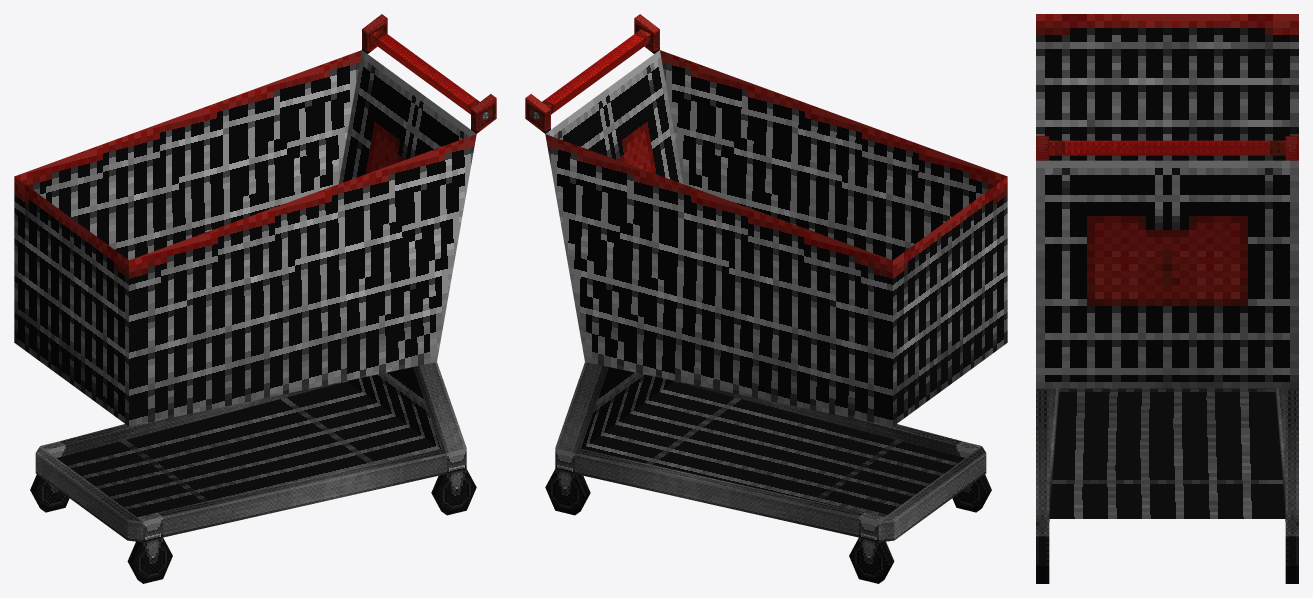
Rendered from cart.glb.
3 renders of one model, left to right at view 1: azimuth 30°, elevation 25°; view 2: azimuth 150°, elevation 25°; view 3: azimuth 270°, elevation 25°, orthographic. The views are drawn at different scales.
Visible parts, largest first — view 1: Cube_TT_checker_512x512_COLOR_GRID_0; view 2: Cube_TT_checker_512x512_COLOR_GRID_0; view 3: Cube_TT_checker_512x512_COLOR_GRID_0.
Boxes of the visible parts, x1,y1,x2,y2 form: Cube_TT_checker_512x512_COLOR_GRID_0: (14,14,496,583); Cube_TT_checker_512x512_COLOR_GRID_0: (525,14,1007,583); Cube_TT_checker_512x512_COLOR_GRID_0: (1036,14,1298,583).
Bounding box in the file's own units: 3.7 × 3.9 × 2.
Materials: 1 (1 with a texture image).
